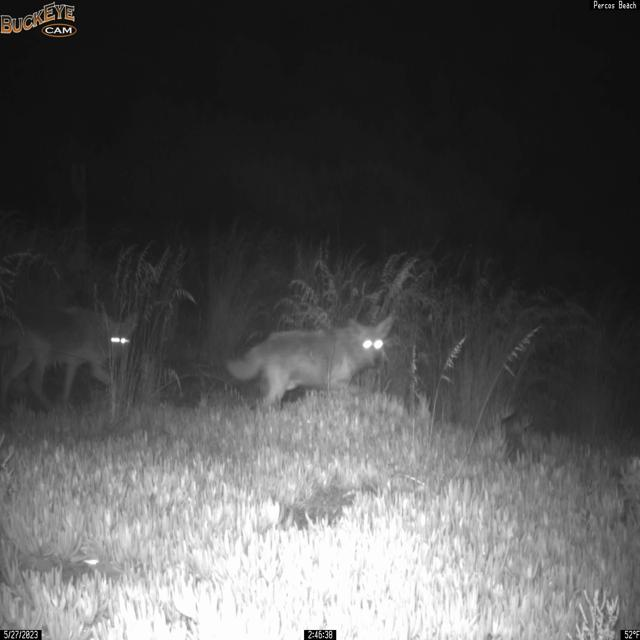coyote: (224, 313, 395, 412)
